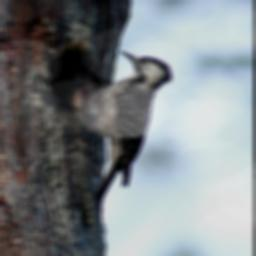Woodpecker: (63, 47, 174, 204)
